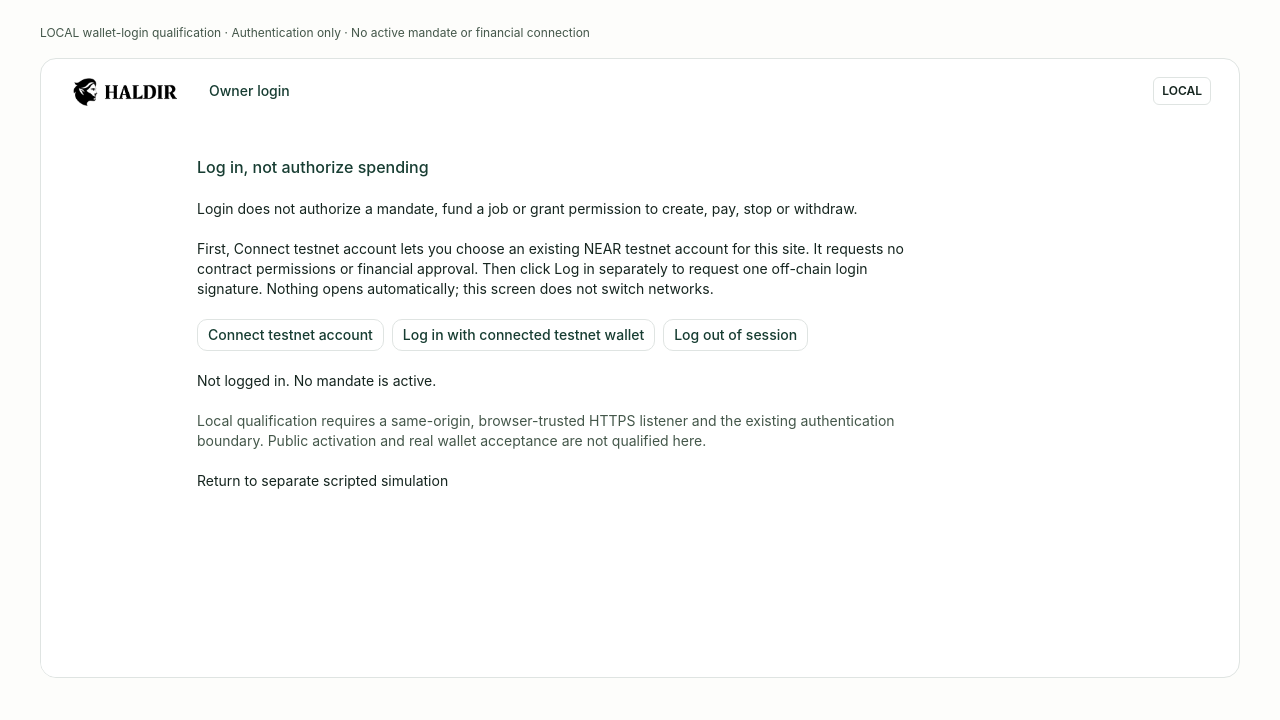
Test: empty origin registry has a reachable explicit association; selection never chains login signing
The image size is (1280, 720).
Expected: the text "Not logged in. No mandate is active." is shown, top-left (197, 372), bottom-right (436, 389)
Click the button "Log in with connected testnet wallet".
click(523, 335)  # box top-left (392, 319), bottom-right (655, 351)
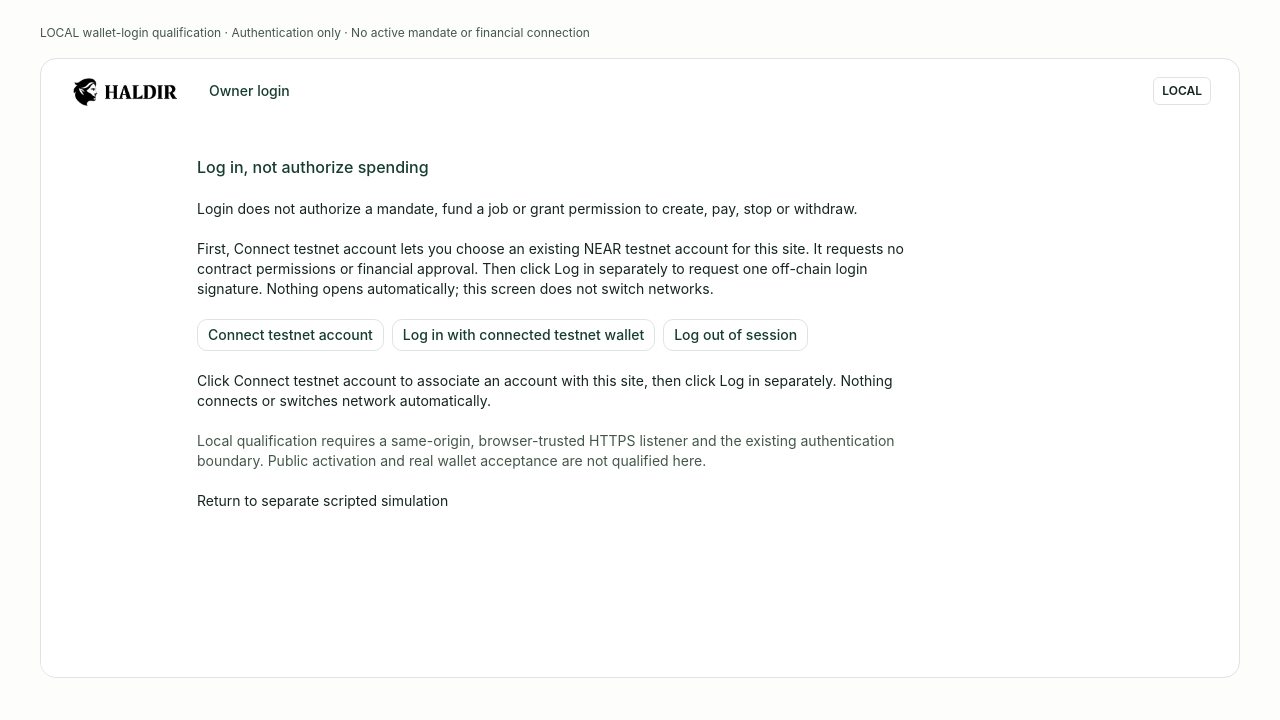
Click the button "Connect testnet account".
click(290, 335)  # box top-left (197, 319), bottom-right (384, 351)
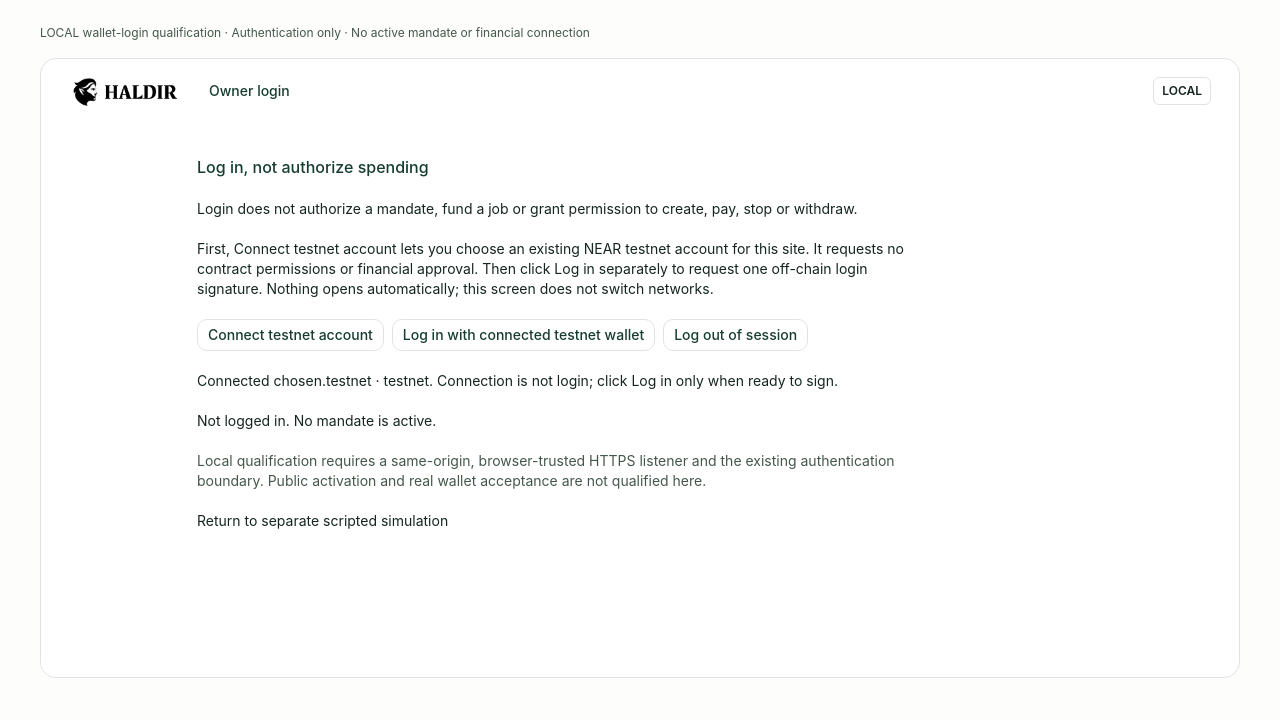
Expected: the text "Connected chosen.testnet · testnet" is shown, top-left (197, 371), bottom-right (917, 391)
